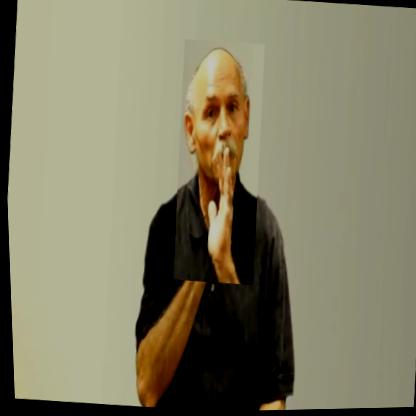Talk: (164, 38, 271, 287)
